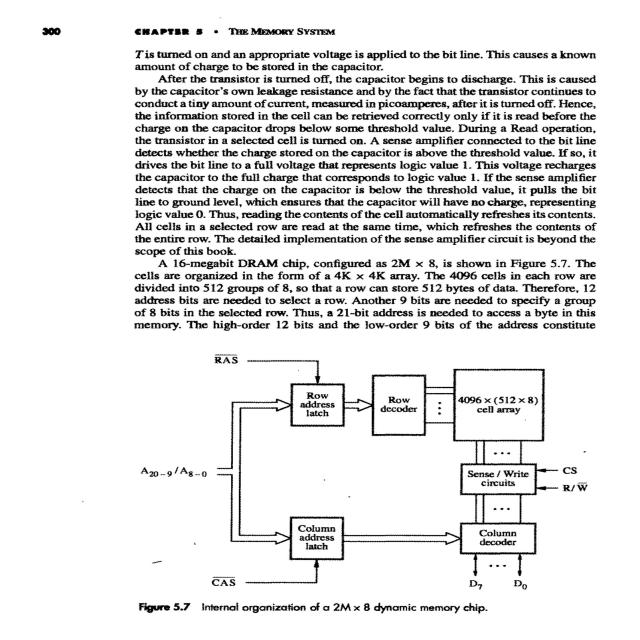diagram: (165, 350, 640, 596)
